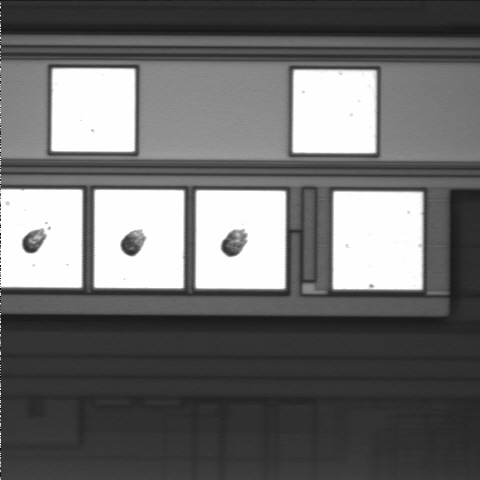pad: (196, 190, 286, 289), (333, 191, 423, 290), (94, 190, 184, 288), (52, 68, 135, 152), (293, 70, 376, 153)
